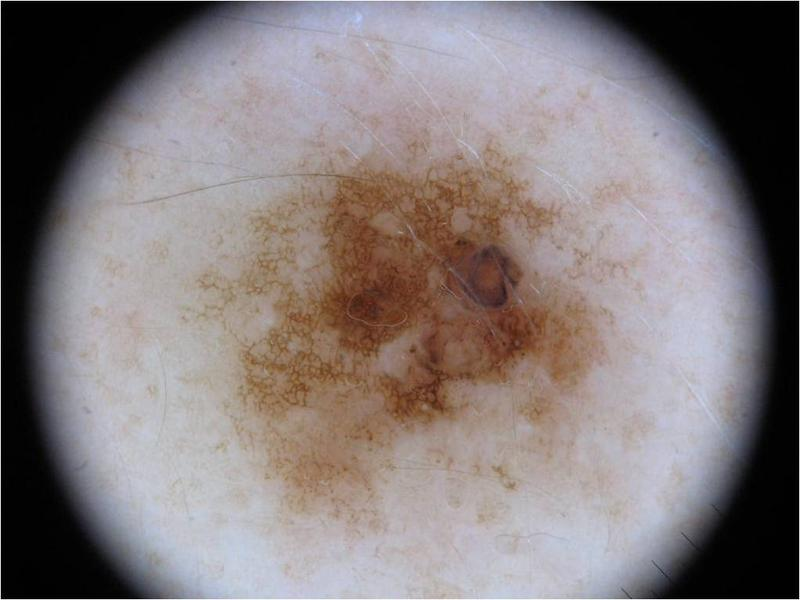Bengin: (430, 230, 550, 322)
